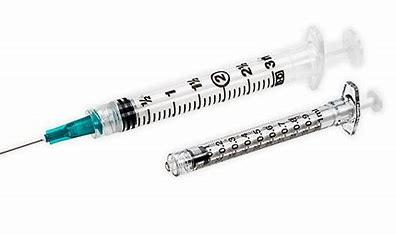Syringe: (17, 17, 368, 148)
